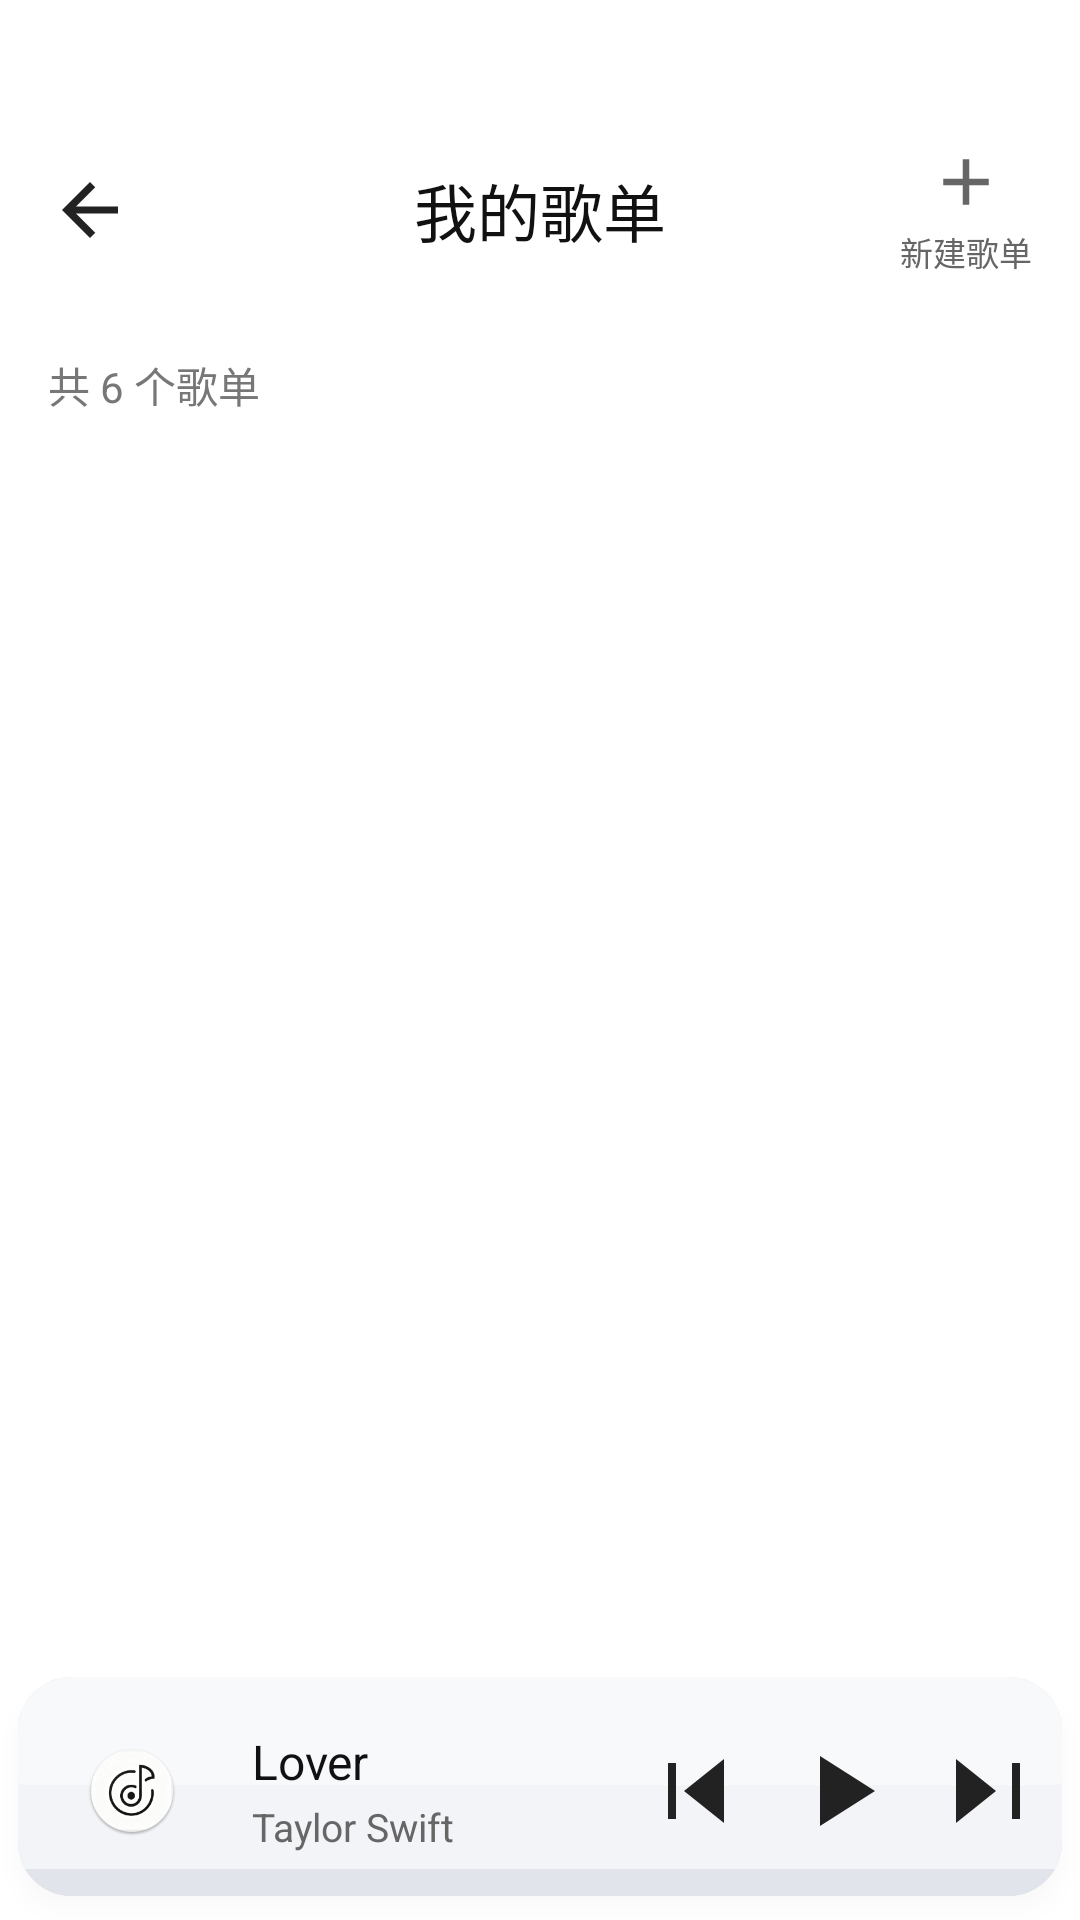

Locate icon controls on the screen. Image size 1080x1920, boxes as (x1,y1,x2,y2).
add: (943,159,989,205)
back: (62,182,118,238)
next: (956,1759,1020,1823)
play triangle: (820,1756,875,1826)
prev: (668,1759,724,1823)
